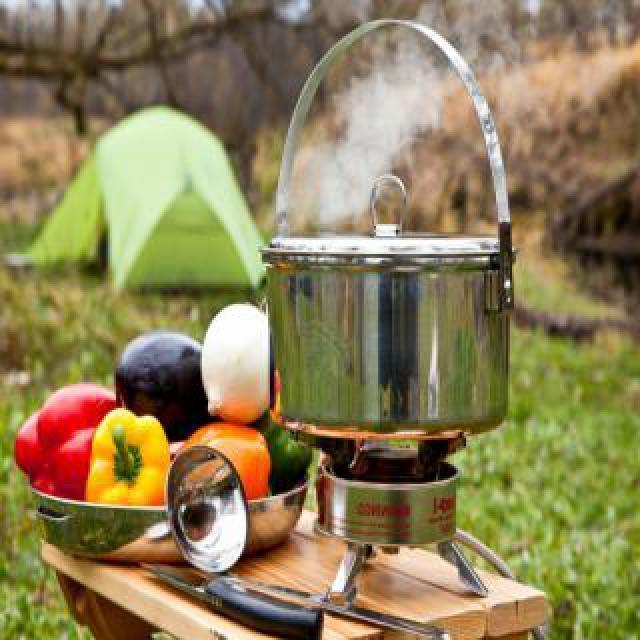Smoke: (298, 42, 446, 238)
